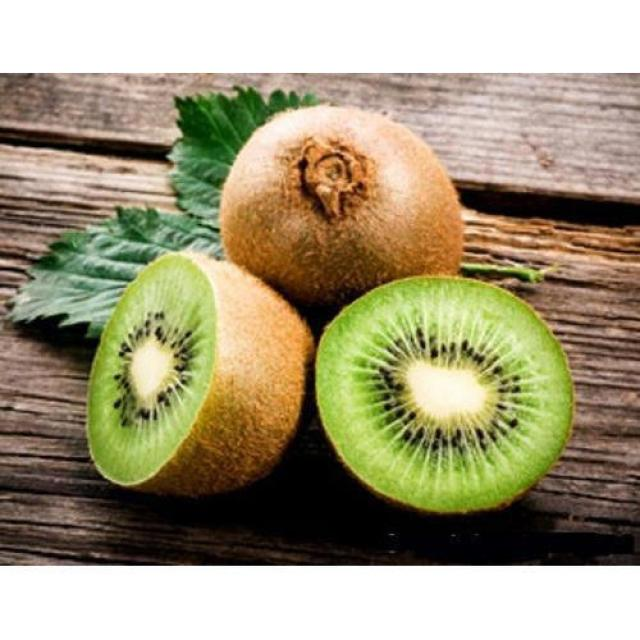Chilli Pepper: (294, 250, 598, 538), (199, 79, 485, 320), (59, 250, 318, 516)
